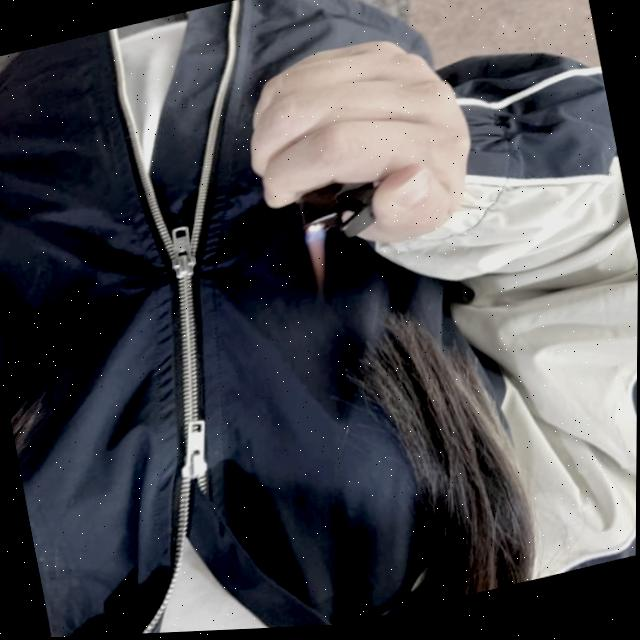Fire: (305, 232, 335, 290)
